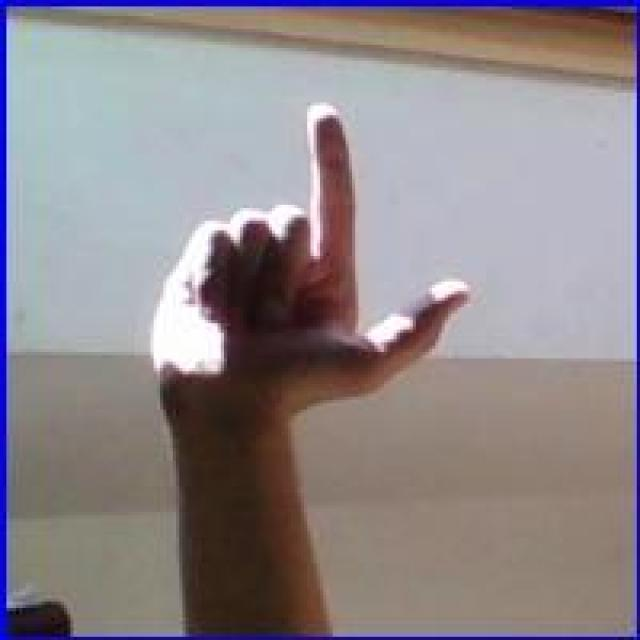L: (147, 93, 477, 445)
